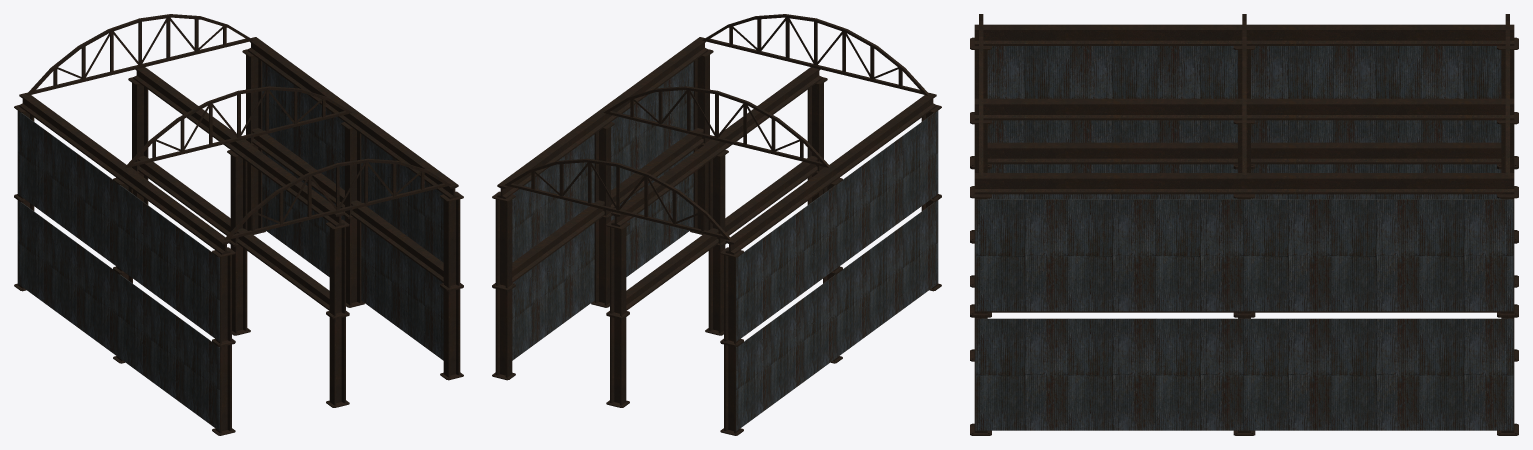
File: warehouse_hl_1.dae
3 renders of one model, left to right at view 1: azimuth 30°, elevation 25°; view 2: azimuth 150°, elevation 25°; view 3: azimuth 270°, elevation 25°, orthographic. The views are drawn at different scales.
Parts seen in each view (by area): view 1: warehouse_hl_1; view 2: warehouse_hl_1; view 3: warehouse_hl_1.
Boxes of the visible parts, box(x1,y1,x2,y2) form: warehouse_hl_1: box(14, 14, 463, 435); warehouse_hl_1: box(492, 14, 941, 435); warehouse_hl_1: box(970, 14, 1518, 435).
Size of the model in its own units: 8.6 by 12.5 by 8.02.
2 materials, 2 textured.
